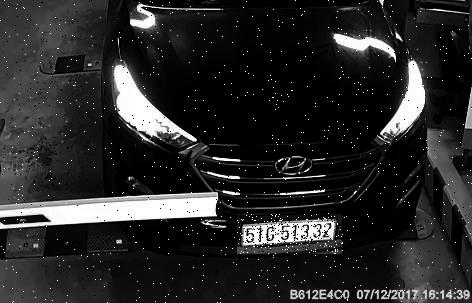License-plate: (239, 215, 345, 255)
